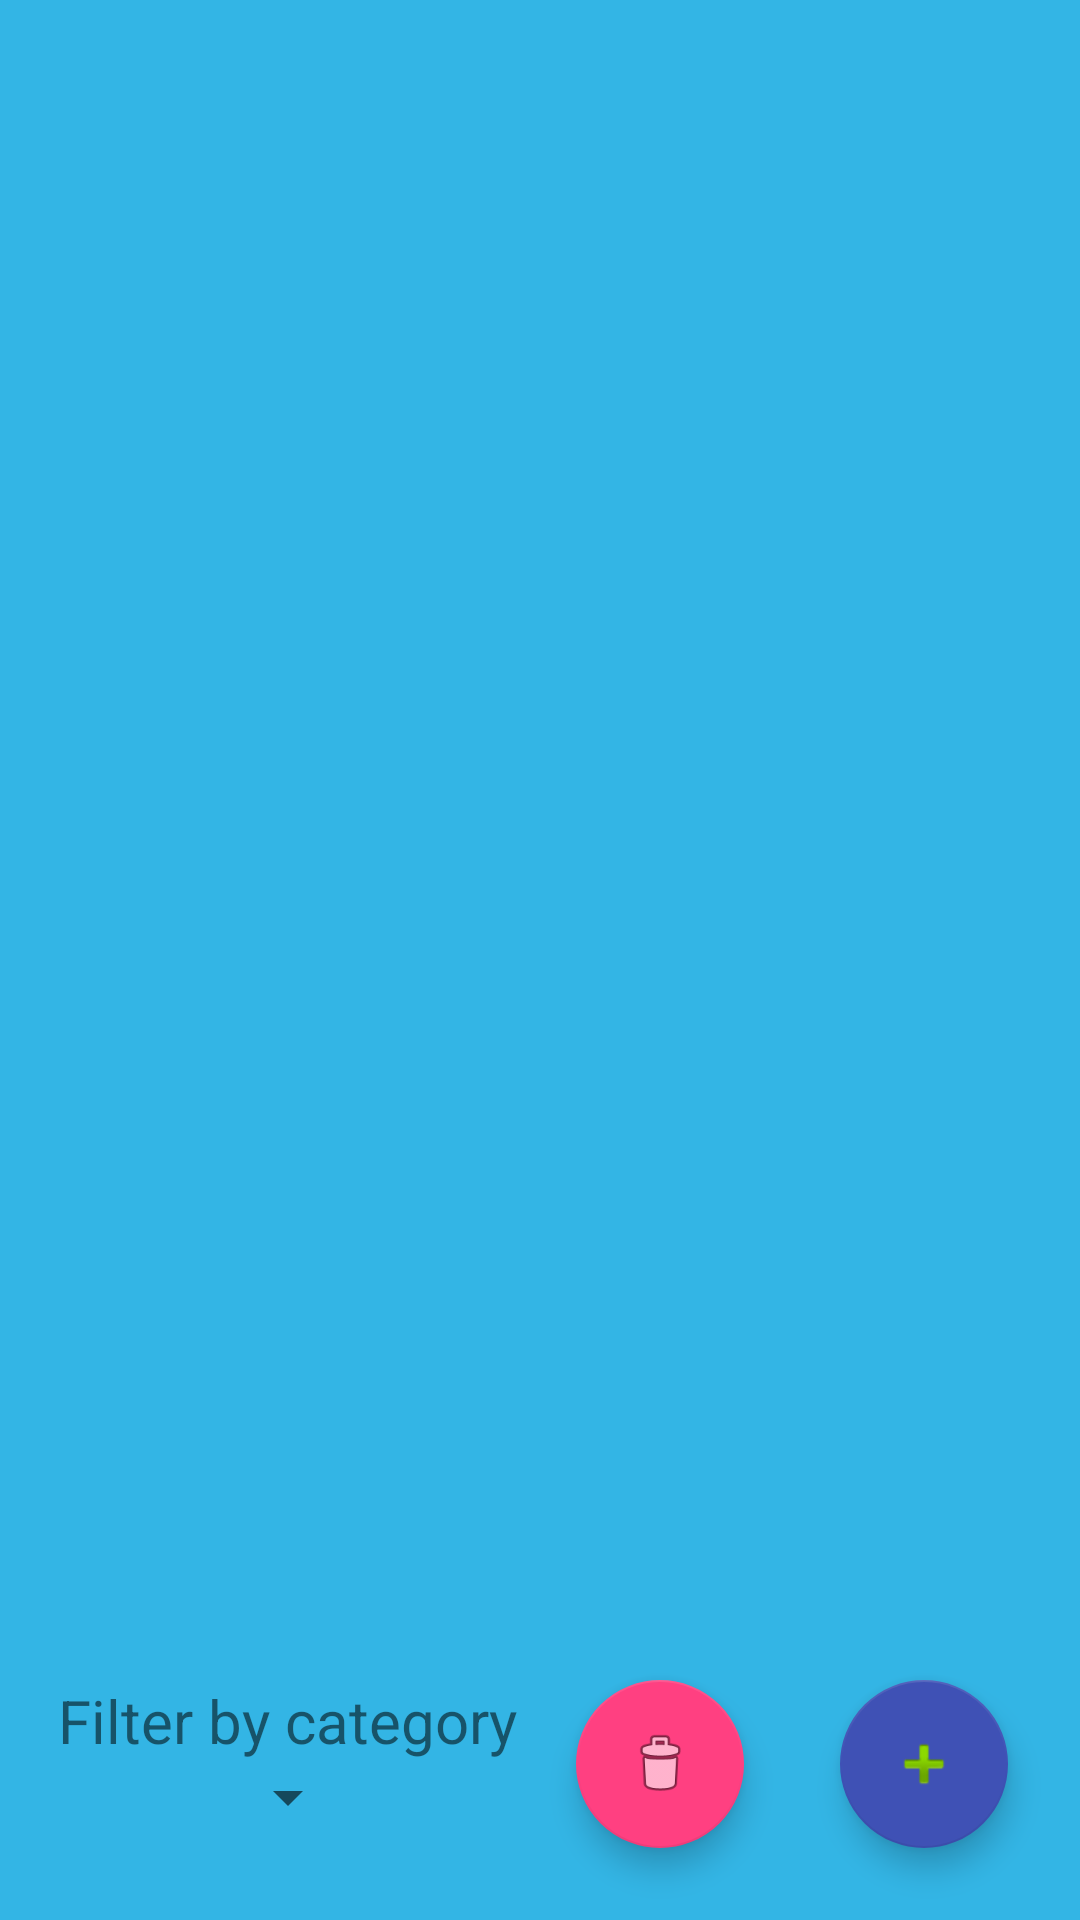

Screen size 1080×1920. Icon name, then its center in pixels as [x,y]:
add: [924,1764]
delete: [660,1764]
